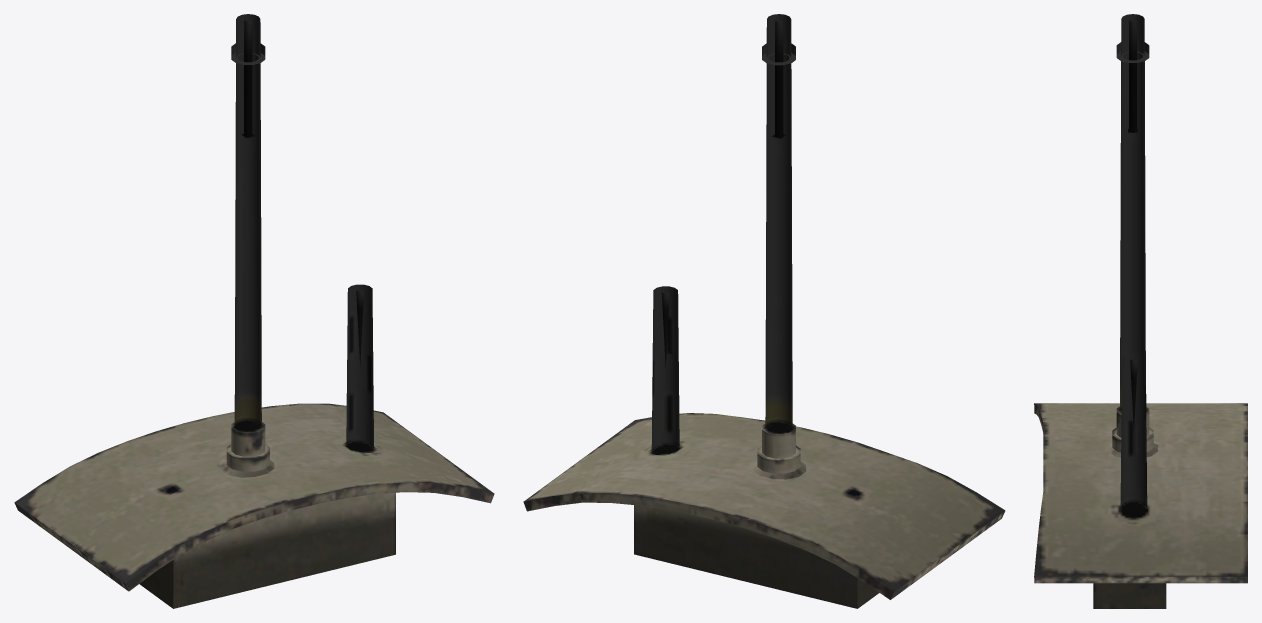
The model's file is Gun_01.glb.
3 views of the same model, side by side, from view 1: azimuth 30°, elevation 25°; view 2: azimuth 150°, elevation 25°; view 3: azimuth 270°, elevation 25° (orthographic). The views are drawn at different scales.
Visible parts, largest first — view 1: set_0_group_0; view 2: set_0_group_0; view 3: set_0_group_0.
Boxes of the visible parts, bbox=[...] form: set_0_group_0: bbox=[14, 14, 494, 608]; set_0_group_0: bbox=[523, 14, 1005, 608]; set_0_group_0: bbox=[1034, 14, 1247, 608].
Size of the model in its own units: 0.5806 by 0.8288 by 0.3027.
1 material, 1 textured.
